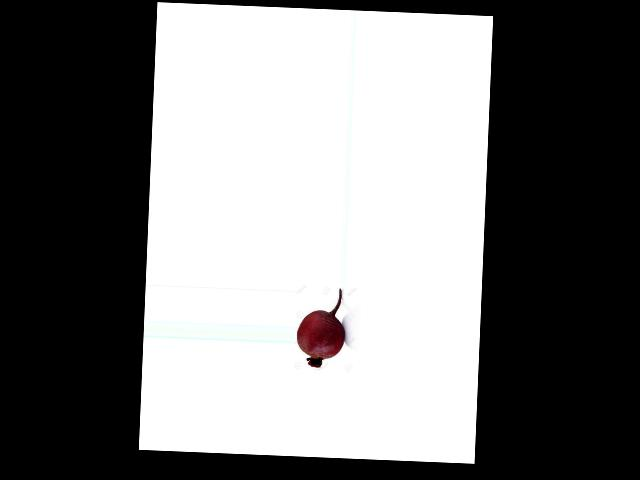beet: (296, 287, 346, 368)
